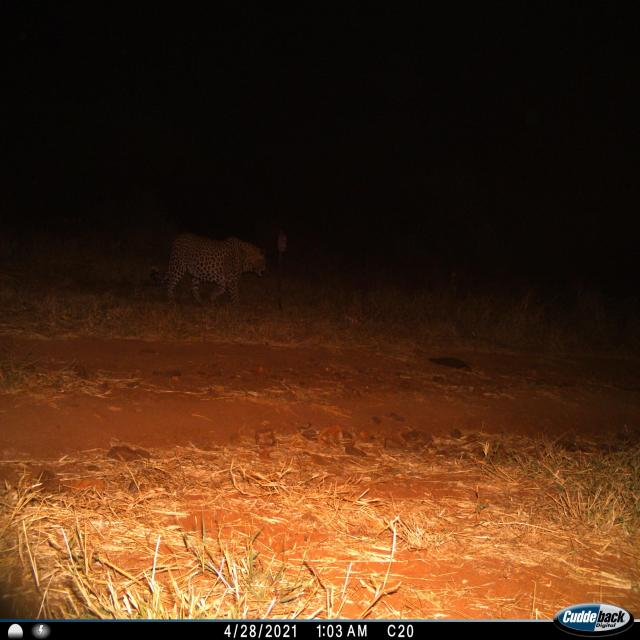Leopard: (142, 234, 272, 311)
